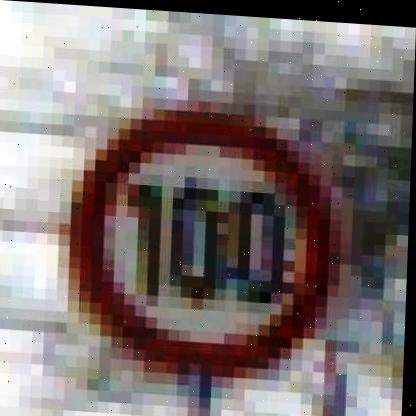Speed Limit -100-: (60, 99, 336, 378)
